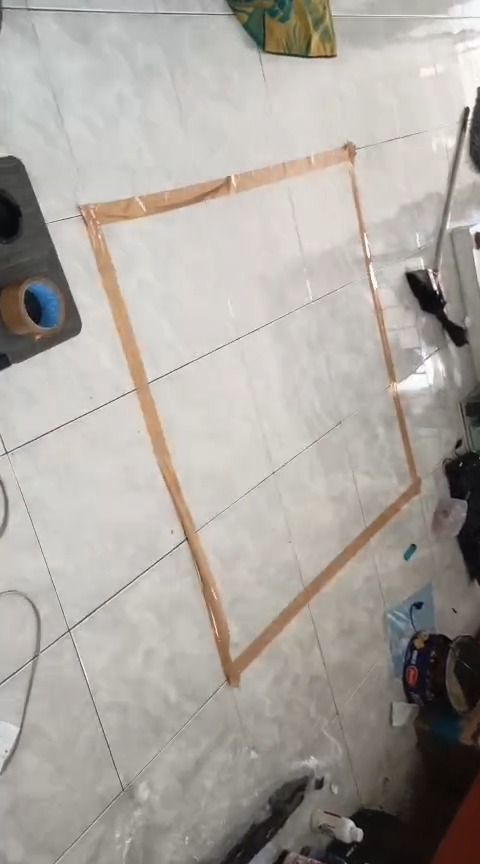floor marking: (80, 143, 420, 685)
